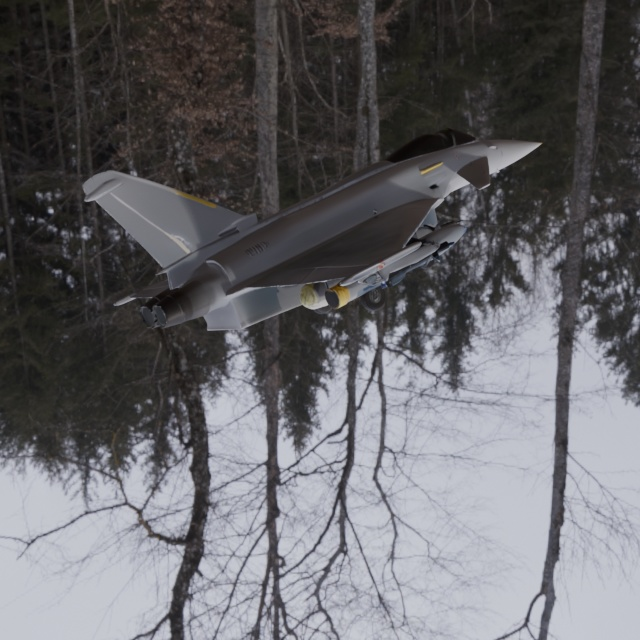eurofighter_typhoon_3d: (0, 0, 640, 428)
